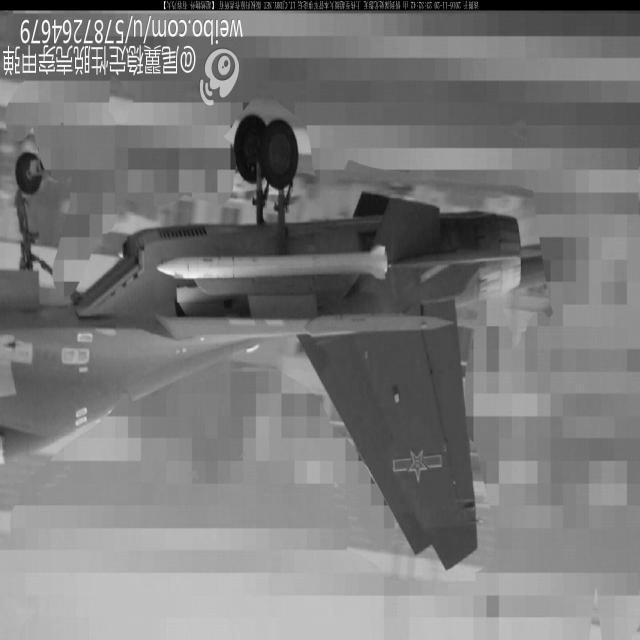Missile: (153, 241, 393, 287)
